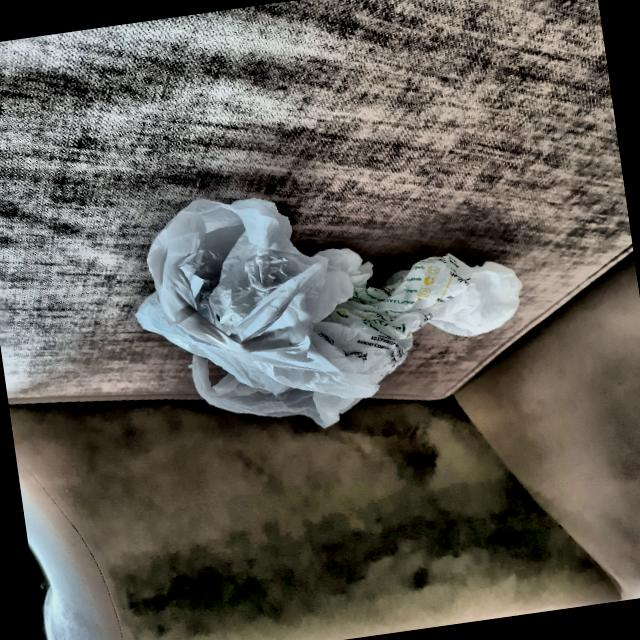plastic bag: (87, 152, 562, 458)
